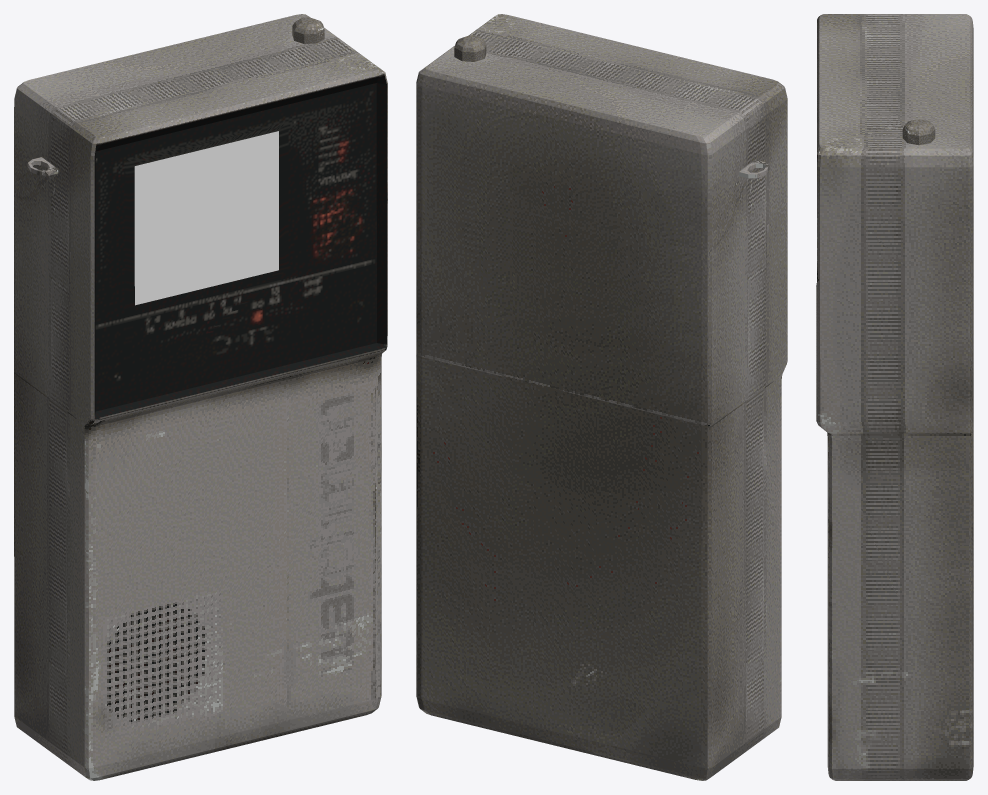
The model's file is watchman.glb.
3 renders of one model, left to right at view 1: azimuth 30°, elevation 25°; view 2: azimuth 150°, elevation 25°; view 3: azimuth 270°, elevation 25°, orthographic. The views are drawn at different scales.
Visible parts, largest first — view 1: watchman2, screen class; view 2: watchman2; view 3: watchman2.
Boxes of the visible parts, x1,y1,x2,y2 form: watchman2: (14,14,387,780); screen class: (134,131,278,305); watchman2: (416,14,787,780); watchman2: (816,14,973,780).
Bounding box in the file's own units: 8.78 × 17.63 × 3.88.
Materials: 3 (2 with a texture image).
